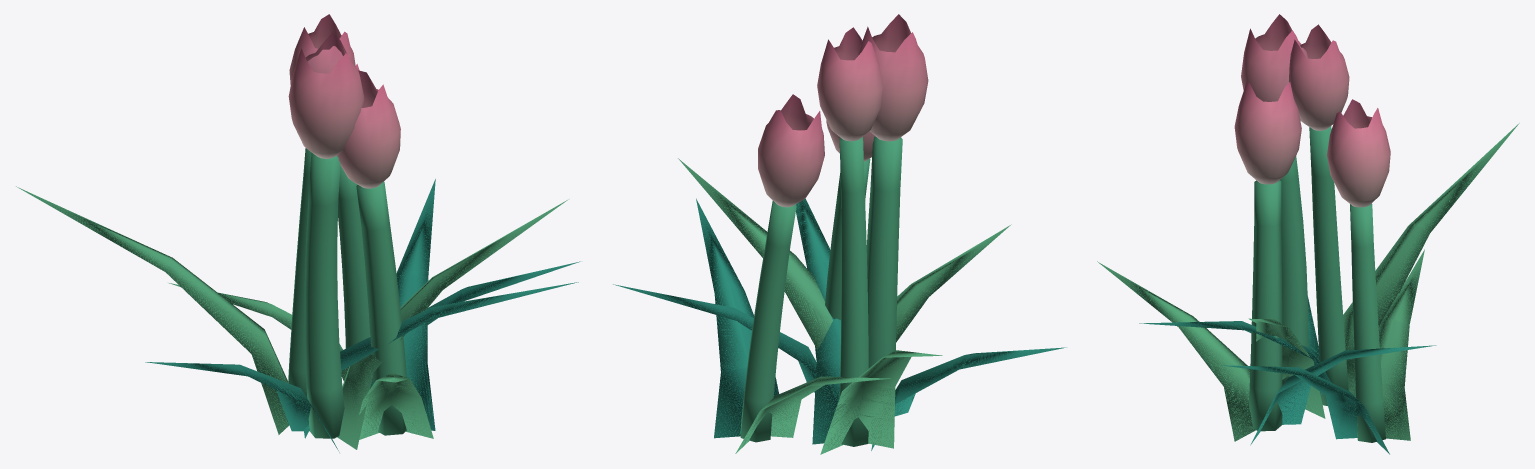
File: verdant_flower_tulip_pink.glb
3 views of the same model, side by side, from view 1: azimuth 30°, elevation 25°; view 2: azimuth 150°, elevation 25°; view 3: azimuth 270°, elevation 25° (orthographic). The views are drawn at different scales.
Visible parts, largest first — view 1: verdant_flower_tulip_pink; view 2: verdant_flower_tulip_pink; view 3: verdant_flower_tulip_pink.
Boxes of the visible parts, x1=… form: verdant_flower_tulip_pink: x1=16, y1=14, x2=580, y2=452; verdant_flower_tulip_pink: x1=613, y1=14, x2=1066, y2=454; verdant_flower_tulip_pink: x1=1097, y1=14, x2=1519, y2=454.
Size of the model in its own units: 0.7359 by 0.6953 by 0.6952.
